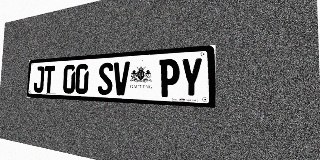0: (62, 64, 76, 94), (75, 64, 89, 94)
J: (33, 66, 44, 93)
P: (159, 59, 180, 97)
S: (97, 62, 113, 95)
T: (43, 66, 55, 93)
V: (113, 61, 130, 96)
Y: (180, 57, 203, 98)
